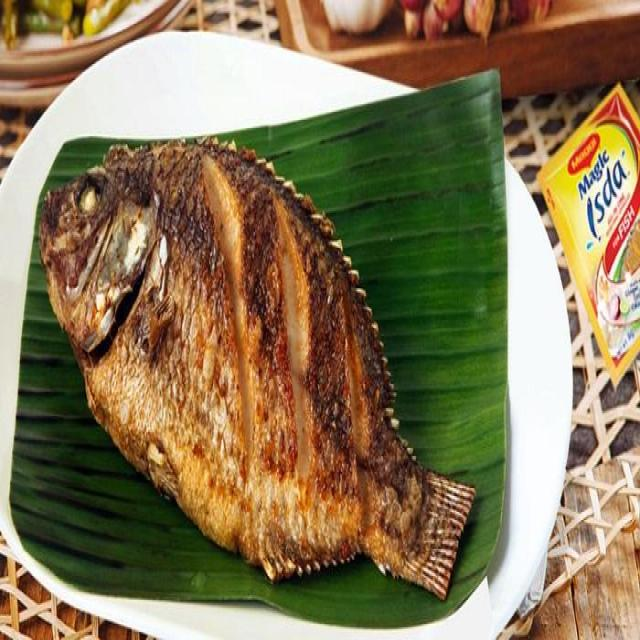Peixe: (38, 134, 476, 602)
